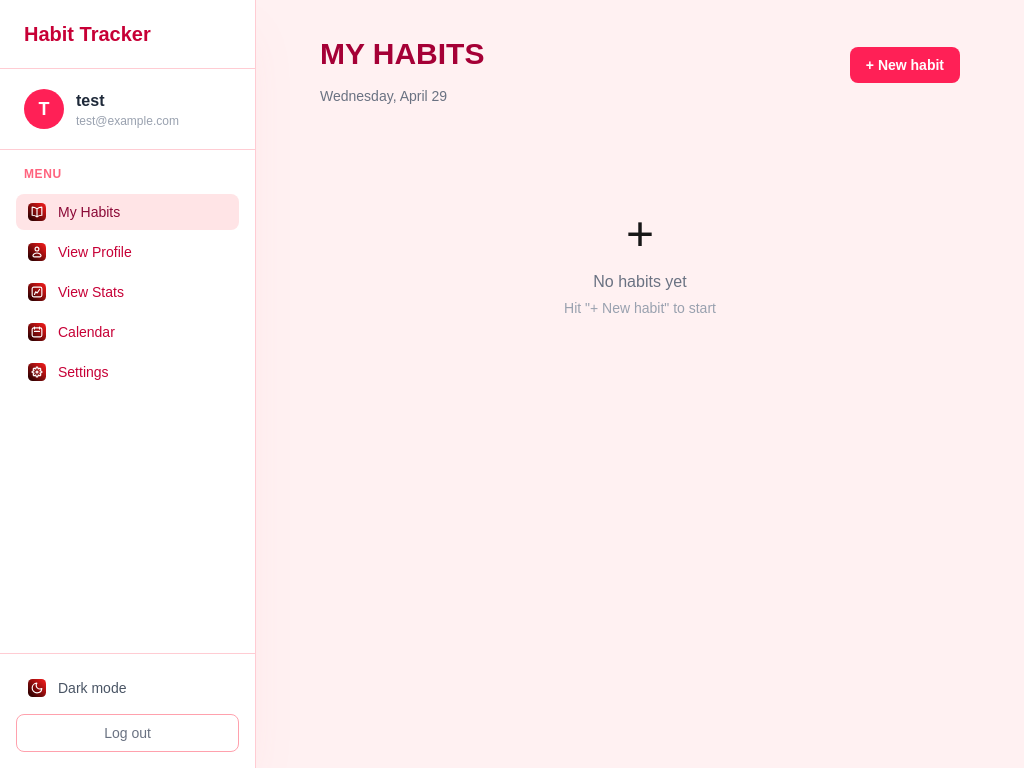
dashboard page › closes the habit form when escape is pressed
Click the button with test id "create-habit-button".
click(905, 65)  # box [850,47,960,83]
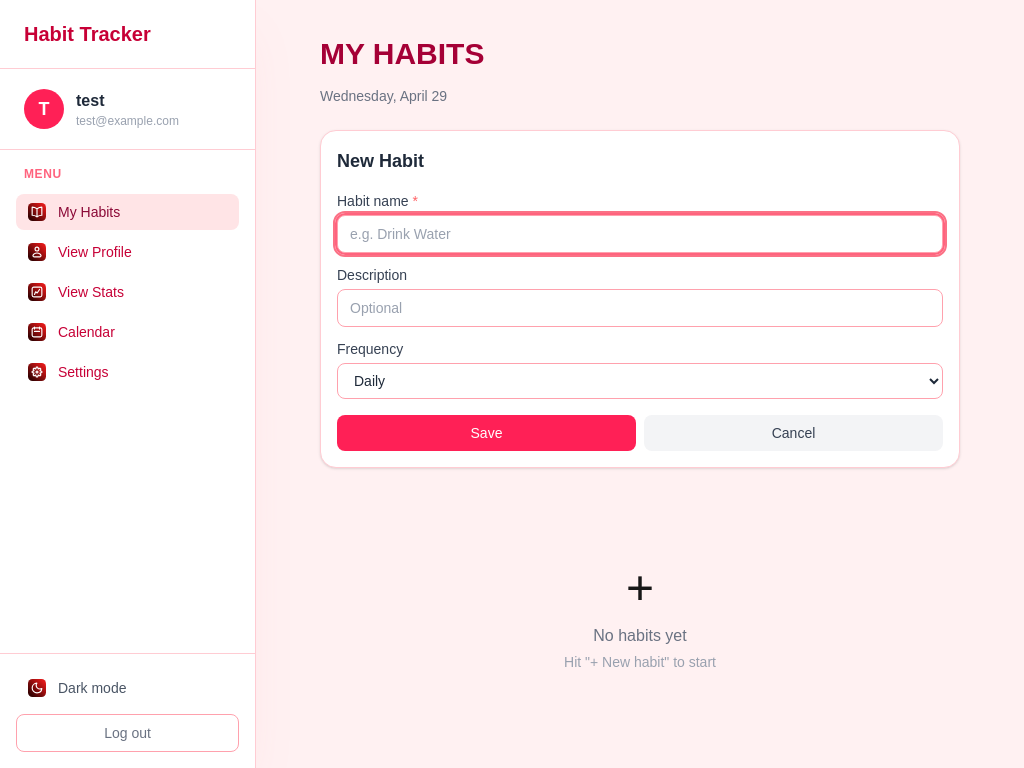
Expected: the form with test id "habit-form" is shown, [320,130,960,468]
Press Escape
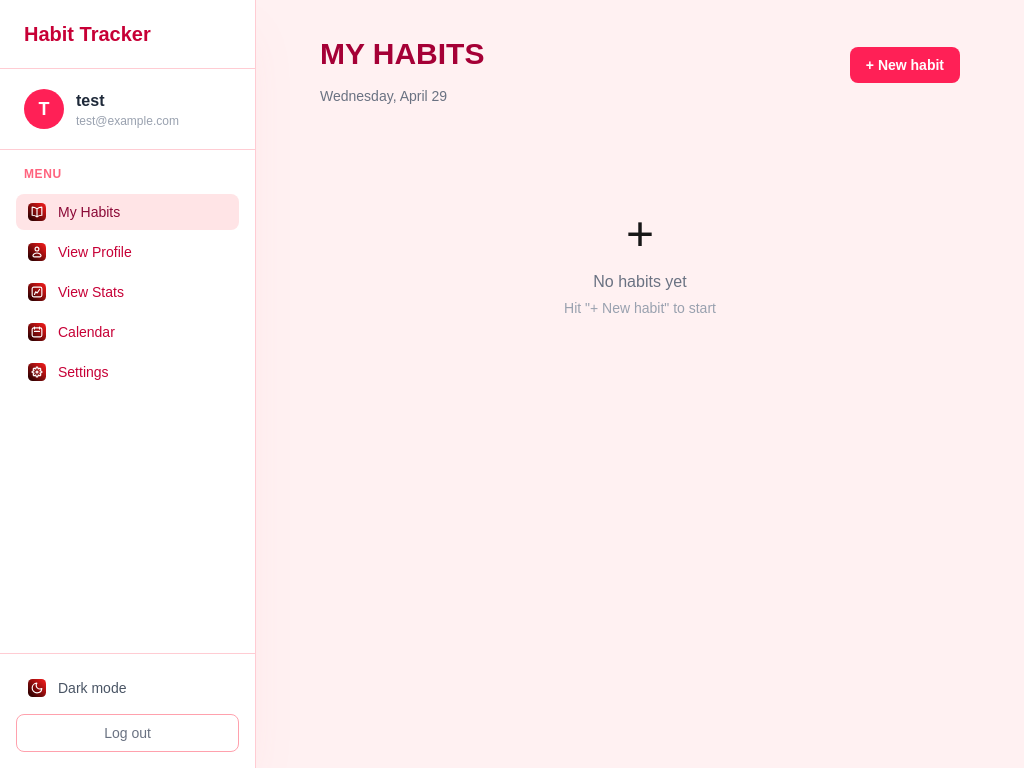
Expected: the form with test id "habit-form" is gone
